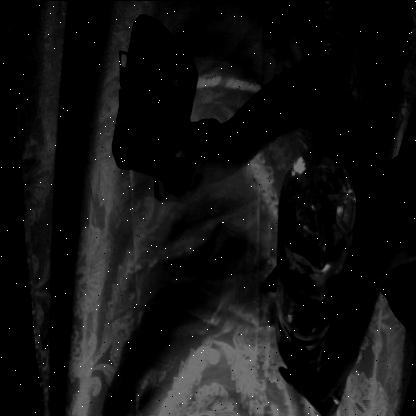Plastic Bottle: (263, 141, 367, 382)
